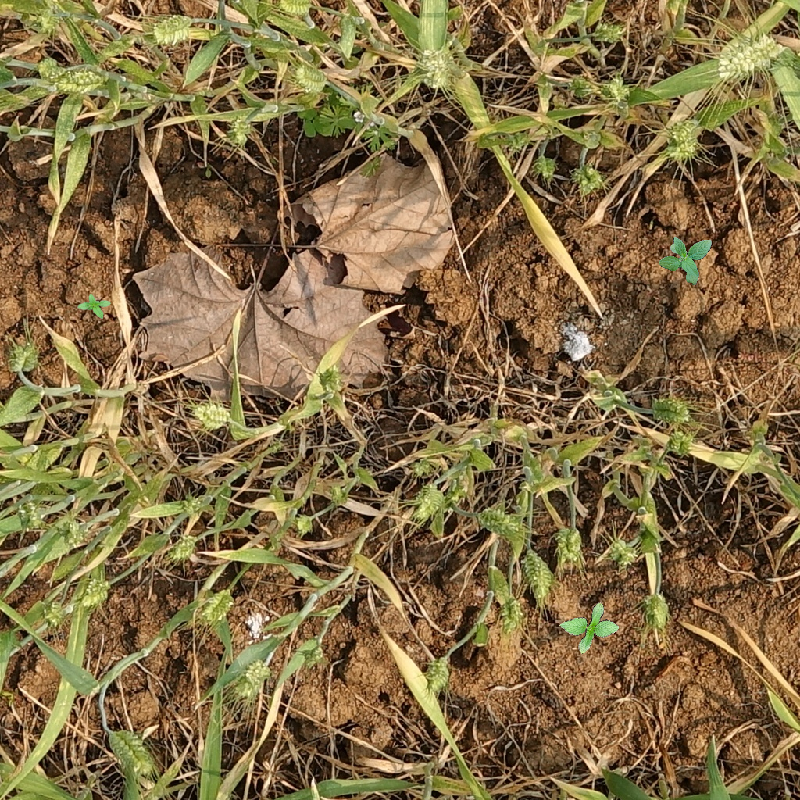spikelet: (715, 33, 782, 81), (111, 727, 157, 777), (476, 505, 528, 543), (51, 62, 108, 96), (520, 547, 554, 603), (418, 44, 457, 90), (230, 658, 271, 701), (663, 116, 702, 161), (584, 371, 627, 411), (71, 576, 112, 612), (151, 12, 193, 45), (199, 587, 234, 624), (291, 60, 329, 94), (412, 482, 445, 521), (190, 400, 232, 430), (560, 324, 594, 361), (554, 525, 584, 566), (6, 338, 40, 374), (651, 394, 691, 424), (640, 590, 671, 628), (315, 363, 346, 401), (497, 591, 524, 632), (571, 163, 605, 195), (424, 654, 451, 694), (14, 494, 44, 530), (225, 111, 254, 148), (602, 74, 632, 108), (607, 537, 638, 568), (167, 533, 198, 563), (591, 18, 625, 44), (666, 428, 696, 457), (180, 491, 209, 519), (567, 73, 596, 99), (42, 601, 67, 627), (276, 0, 313, 16)
weed: (553, 590, 625, 663), (655, 226, 714, 287), (77, 294, 111, 319)
